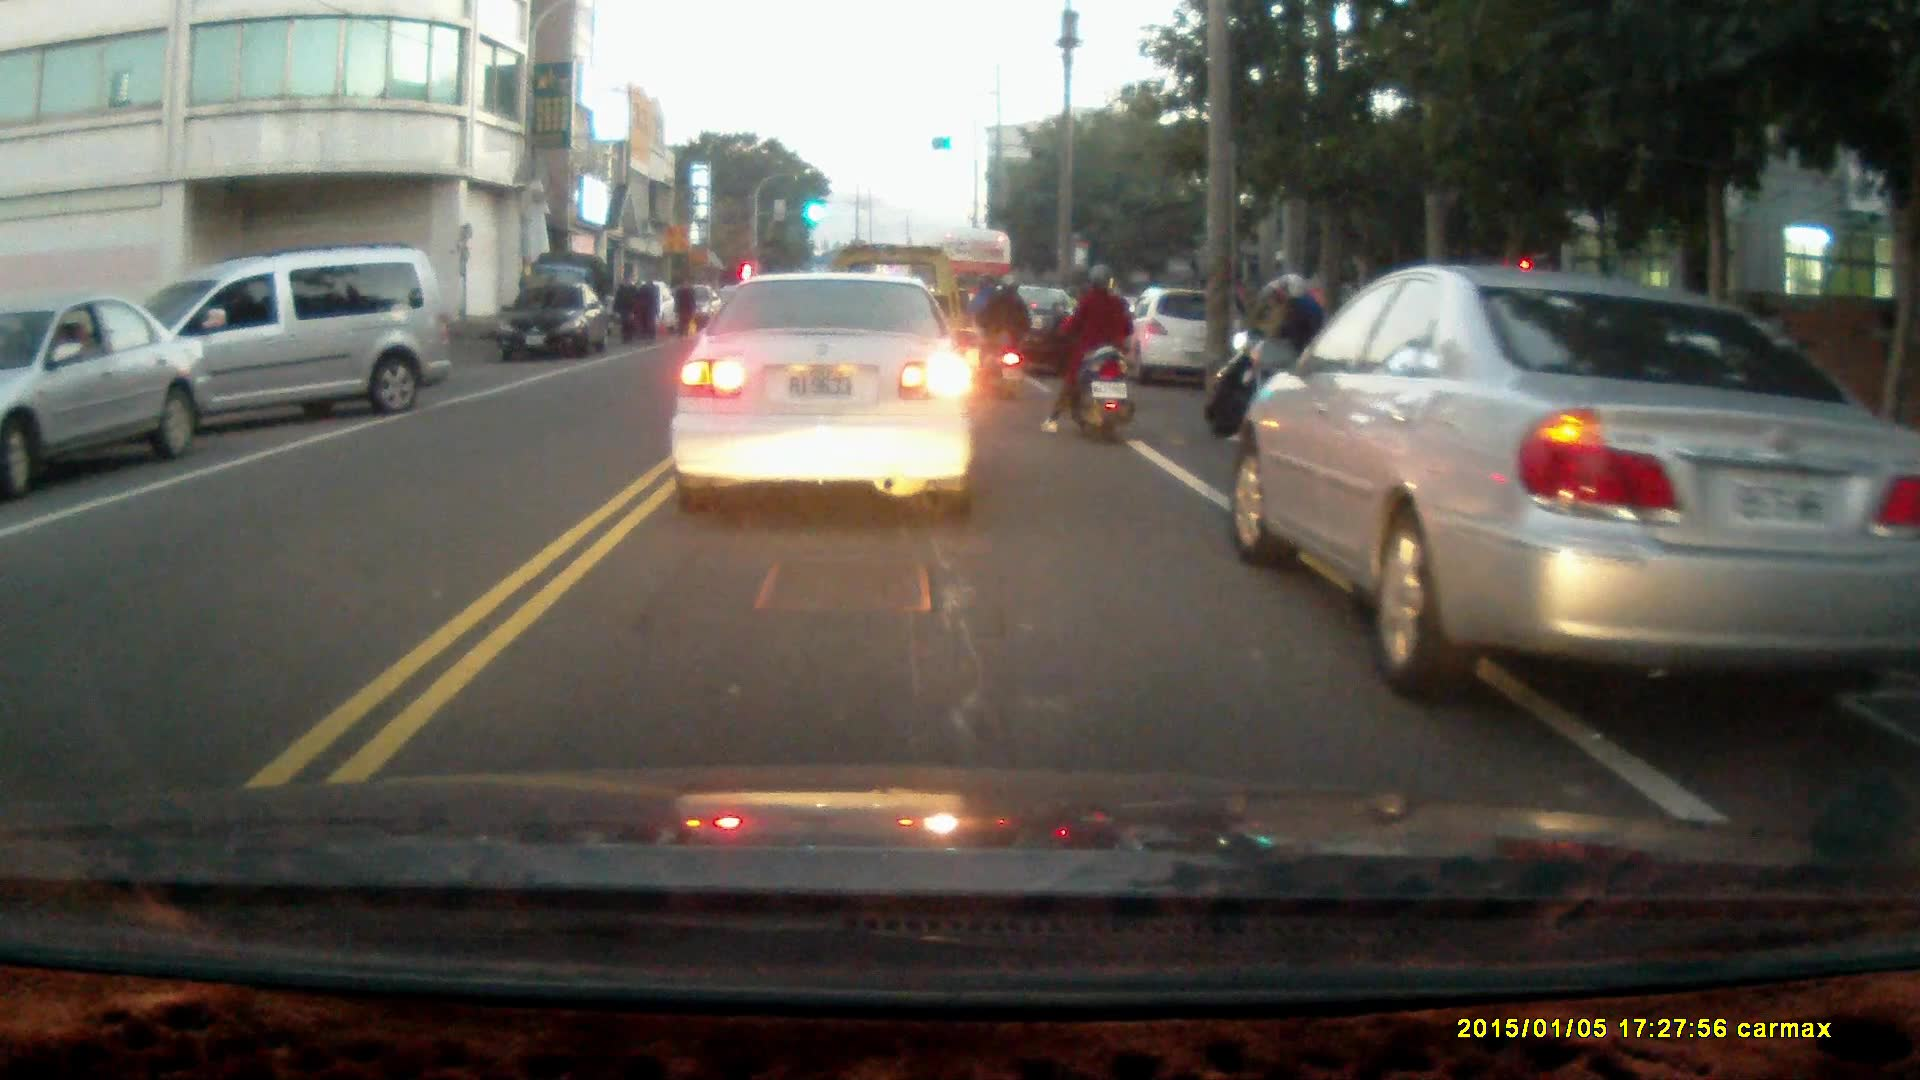pedestrian: (610, 271, 637, 345), (669, 271, 697, 337), (633, 271, 658, 347)
rider: (1204, 268, 1336, 447), (1039, 261, 1134, 442), (962, 268, 1029, 397)
vehicle: (1227, 258, 1920, 700), (671, 271, 982, 522), (96, 249, 449, 445), (1, 296, 217, 494), (968, 283, 1107, 384), (1122, 289, 1233, 391), (501, 280, 613, 361)
